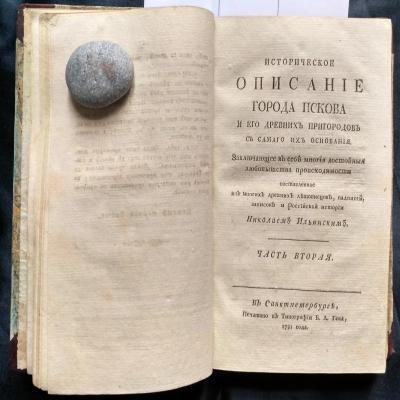rare_books: (14, 6, 400, 395)
